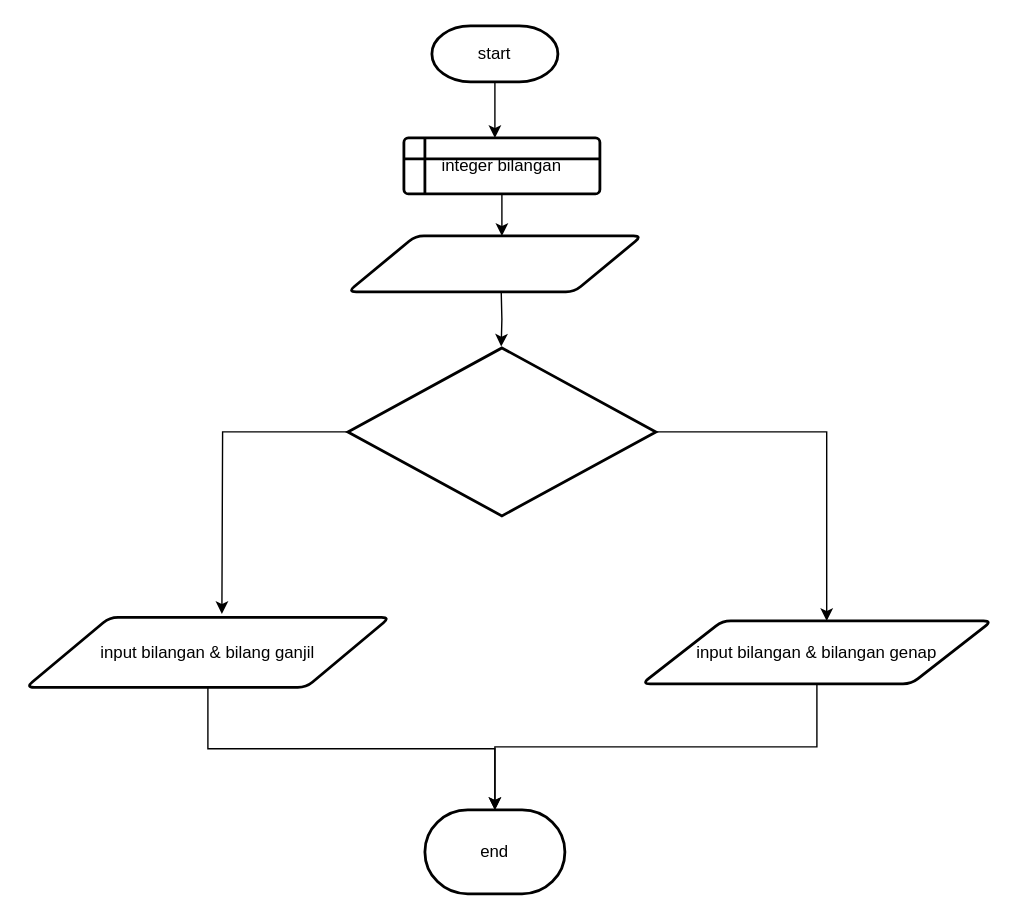
Image size: 1016x918. Some labels were removed from this diagram. The box of each missing label's shape, as (x1, y1, x2, y2) in pixels:
bilangan mod 2 = 0: (346, 346, 657, 517)
input bilangan: (346, 234, 643, 293)
